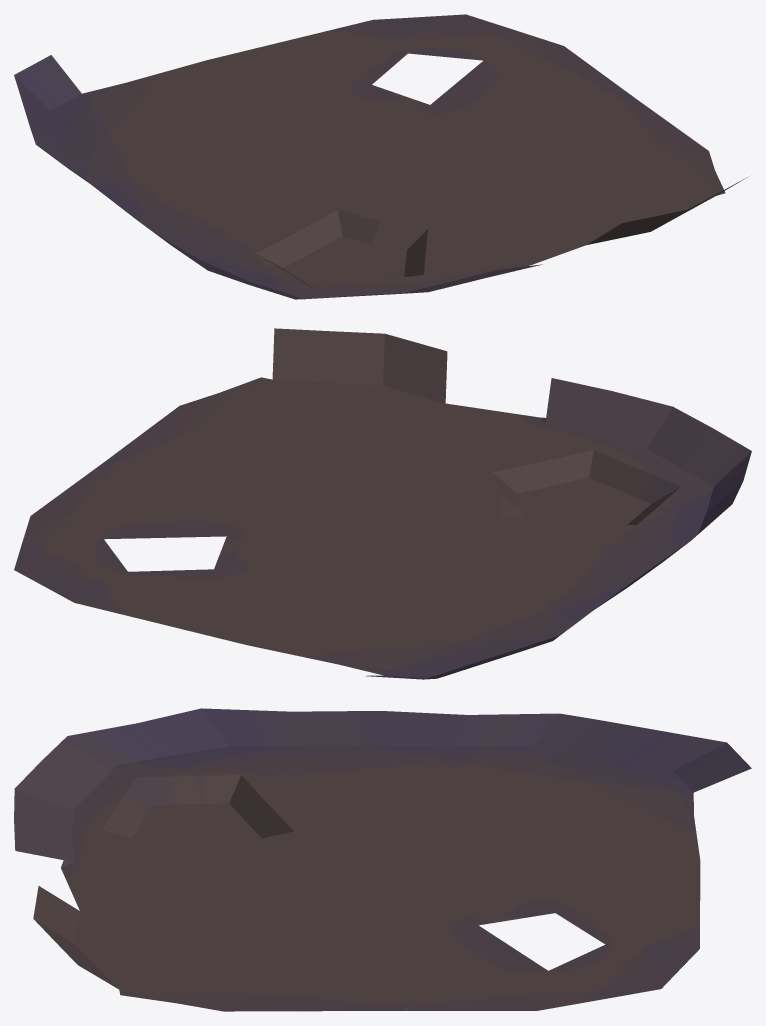
File: CaveGround2.fbx
3 renders of one model, top to bottom at view 1: azimuth 30°, elevation 25°; view 2: azimuth 150°, elevation 25°; view 3: azimuth 270°, elevation 25°, orthographic. The views are drawn at different scales.
Parts seen in each view (by area): view 1: GroundMesh; view 2: GroundMesh; view 3: GroundMesh.
Part boxes in pixels (x1=…): GroundMesh: x1=14, y1=14, x2=747, y2=299; GroundMesh: x1=14, y1=328, x2=751, y2=679; GroundMesh: x1=14, y1=708, x2=751, y2=1011.
Size of the model in its own units: 11120 by 964 by 12517.
1 material, 1 textured.
